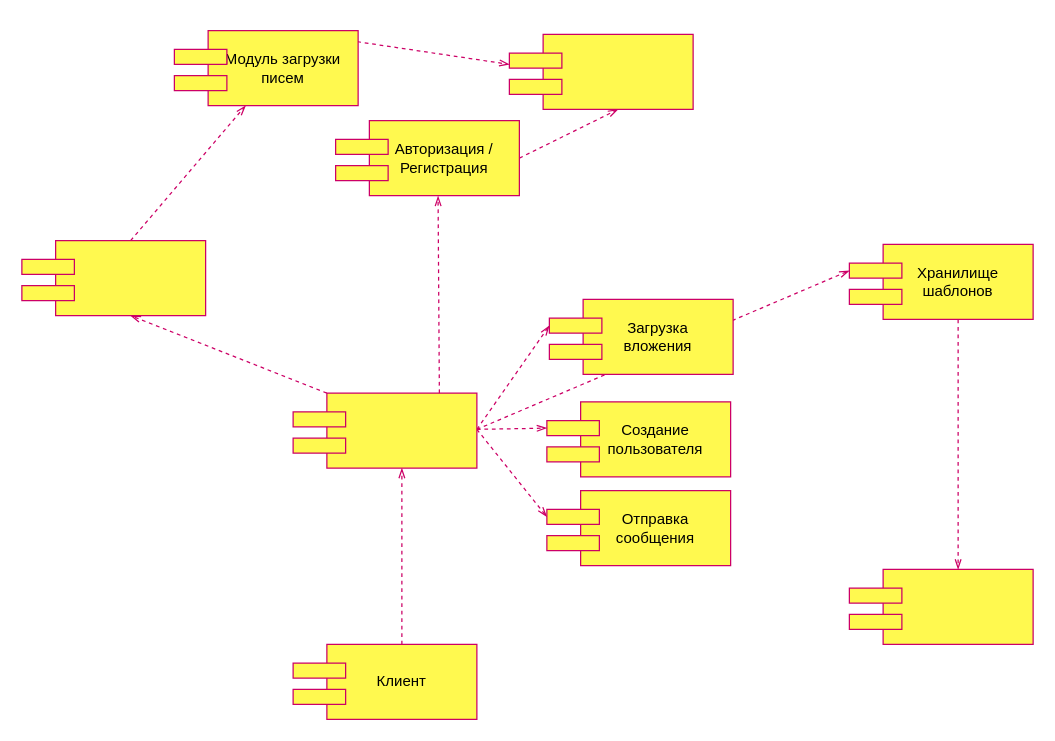
Image size: 1055x741. Some labels were removed from this diagram. The shapes that lost their labels are listed below. From the top down, each one's centre as x and y in pixels, then its label:
At point (617, 71): "MariaDB".
At point (130, 277): "Получение сообщений".
At point (401, 430): "Web Server".
At point (957, 606): "Смена темы".
